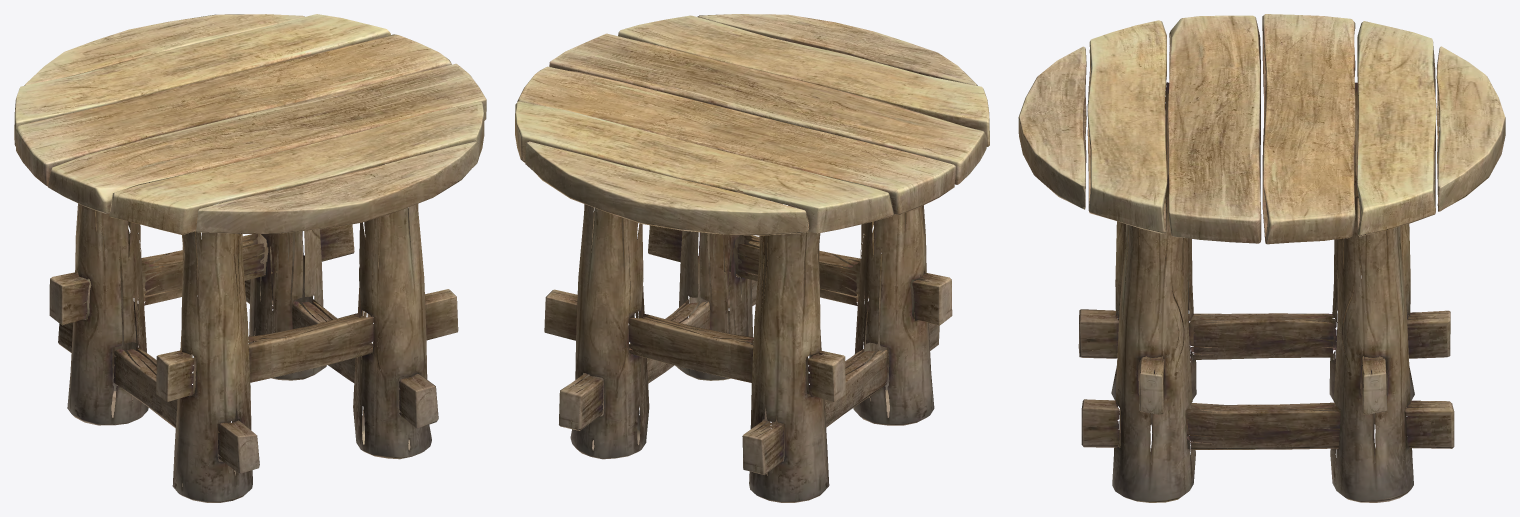
3 renders of one model, left to right at view 1: azimuth 30°, elevation 25°; view 2: azimuth 150°, elevation 25°; view 3: azimuth 270°, elevation 25°, orthographic. The views are drawn at different scales.
Parts seen in each view (by area): view 1: SM_Wooden_Table_01v1_LOD0; view 2: SM_Wooden_Table_01v1_LOD0; view 3: SM_Wooden_Table_01v1_LOD0.
Boxes of the visible parts, x1,y1,x2,y2 form: SM_Wooden_Table_01v1_LOD0: (14,14,486,502); SM_Wooden_Table_01v1_LOD0: (515,14,989,502); SM_Wooden_Table_01v1_LOD0: (1018,14,1505,502).
Bounding box in the file's own units: 1.2 × 0.8822 × 1.18.
1 material, 1 textured.
